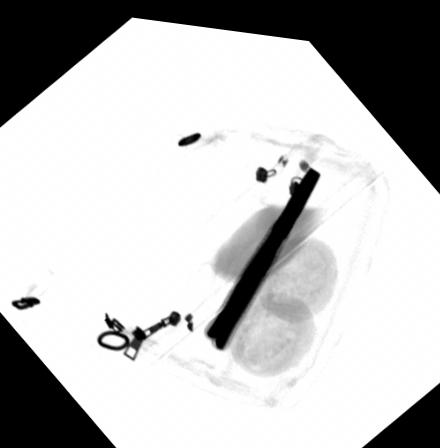Pliers: (201, 155, 321, 344)
